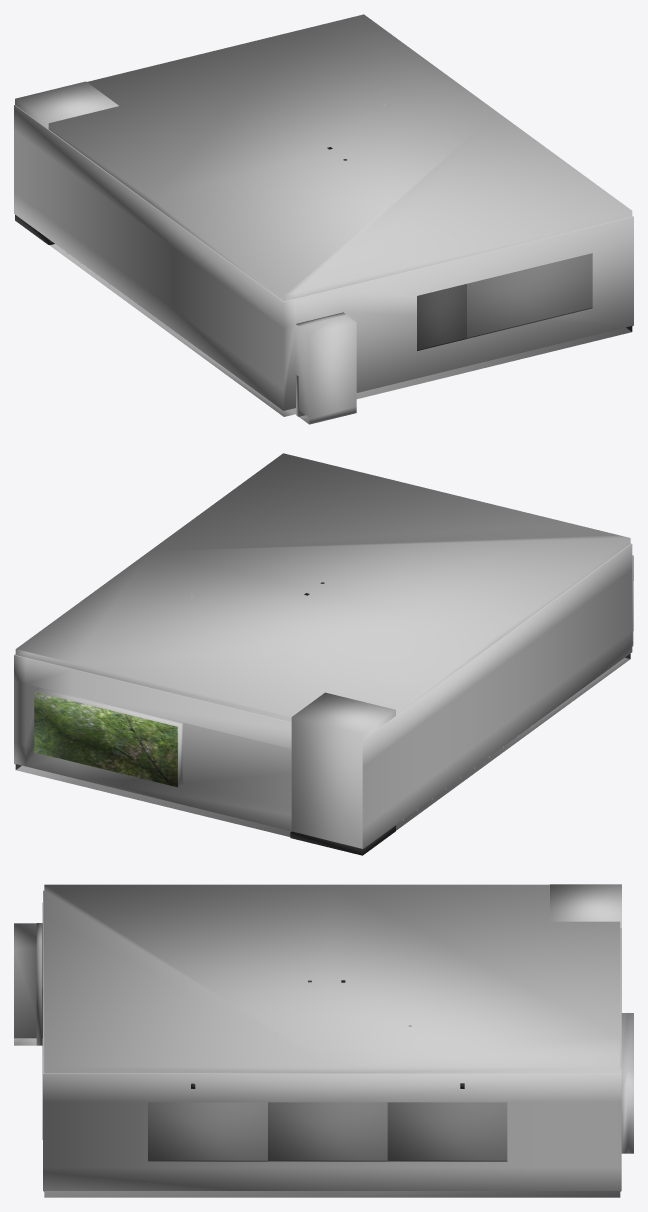
Rendered from Classroom_Merged.fbx.
3 renders of one model, top to bottom at view 1: azimuth 30°, elevation 25°; view 2: azimuth 150°, elevation 25°; view 3: azimuth 270°, elevation 25°, orthographic. The views are drawn at different scales.
Visible parts, largest first — view 1: Classroom.001, White Board.001, column, White Board.002; view 2: Classroom.001, column; view 3: Classroom.001, White Board, column, Door.
Boxes of the visible parts, <box> form: Classroom.001: <box>14,14,633,424</box>; White Board.001: <box>467,253,592,338</box>; column: <box>15,81,118,244</box>; White Board.002: <box>417,284,466,350</box>; Classroom.001: <box>14,453,633,848</box>; column: <box>290,692,395,855</box>; Classroom.001: <box>14,884,633,1197</box>; White Board: <box>148,1102,507,1161</box>; column: <box>550,884,621,1012</box>; Door: <box>36,923,42,1045</box>.
Size of the model in its own units: 928 by 306 by 1313.
